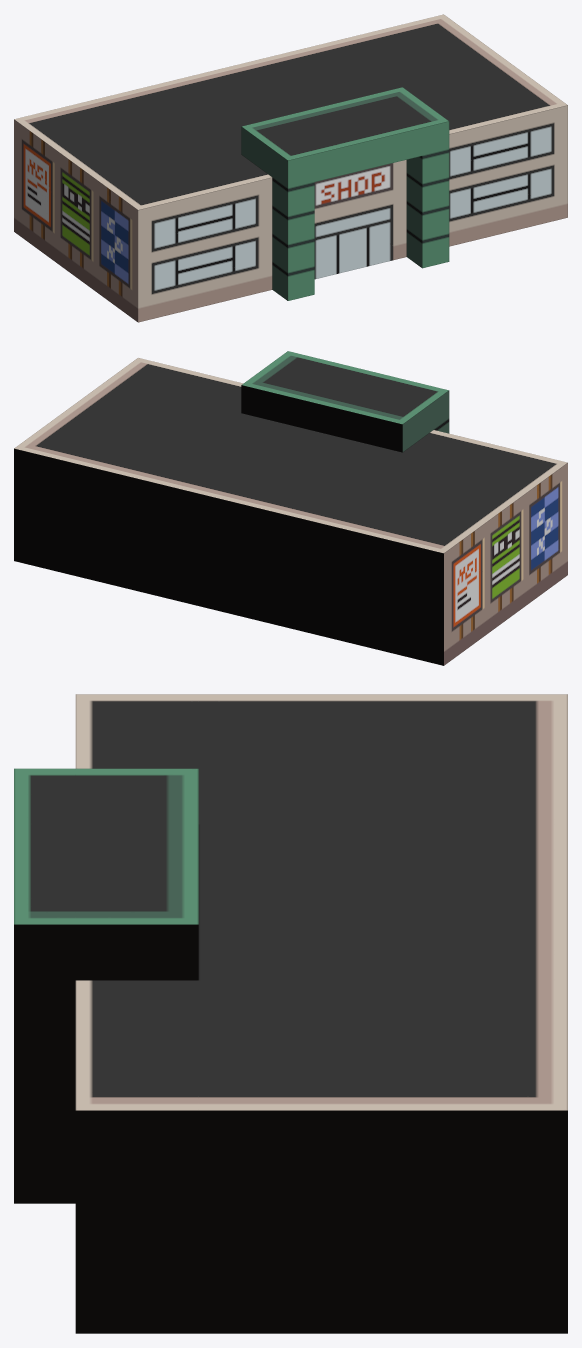
File: supermarket.FBX
3 views of the same model, one above another, from view 1: azimuth 30°, elevation 25°; view 2: azimuth 150°, elevation 25°; view 3: azimuth 270°, elevation 25° (orthographic). The views are drawn at different scales.
Parts seen in each view (by area): view 1: Box001; view 2: Box001; view 3: Box001.
Part boxes in pixels (x1,y1,x2,y2): Box001: (14, 14, 567, 322); Box001: (14, 351, 567, 665); Box001: (14, 694, 567, 1333).
Bounding box in the file's own units: 256 × 80 × 144.
1 material, 1 textured.
